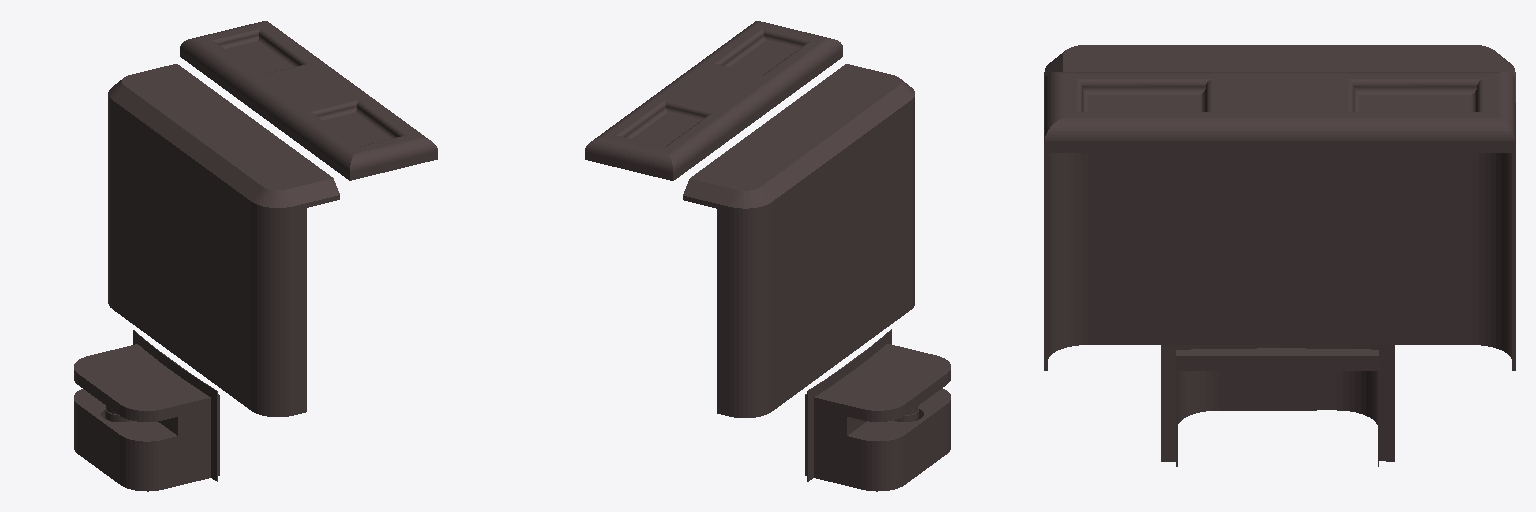
The robot description file, URDF, robot "forklift":
<?xml version="1.0"?>
<robot name="forklift">

    <!-- main chasis part-->
	<link name="base_link">
	 	<visual>
			<origin rpy="1.57075 0 -1.57075" xyz="1.375 0.383 0"/>
			<geometry>
				<mesh filename="package://forklift_description/meshes/main_chasis.STL" scale="0.001 0.001 0.001"/>
			</geometry>
			<material name="green">
       			<color rgba="0.3 1 0.3 1"/>
     		</material>
	 	</visual>

	 	<!-- main chasis collision, mass and inertia -->
    	<collision>
      	<origin rpy="1.57075 0 -1.57075" xyz="1.375 0.383 0"/>
      	<geometry>
         	<mesh filename="package://forklift_description/meshes/main_chasis.STL" scale="0.001 0.001 0.001"/>
      	</geometry>
    	</collision>
    	<inertial>
      		<mass value="50"/>
      		<inertia ixx="0.13" ixy="0.0" ixz="0.0" iyy="0.21" iyz="0.0" izz="0.13"/>
    	</inertial>
	</link>	

    <!-- column part -->
	<link name="column">
	 	<visual>
			<origin rpy="1.57075 0 1.57075 " xyz="-0.073 -0.098 -0.25"/>
			<geometry>
				<mesh filename="package://forklift_description/meshes/column.STL" scale="0.001 0.001 0.001"/>
			</geometry>
			<material name="grey">
       			<color rgba="0.1 0 1 0.8"/>
     		</material>
		</visual>

		<!-- column collision, mass and inertia -->
    	<collision>
      	<origin rpy="1.57075 0 1.57075 " xyz="-0.073 -0.098 -0.25"/>
      	<geometry>
         	<mesh filename="package://forklift_description/meshes/column.STL" scale="0.001 0.001 0.001"/>
      	</geometry>
    	</collision>
    	<inertial>
      		<mass value="10"/>
      		<inertia ixx="0.13" ixy="0.0" ixz="0.0" iyy="0.21" iyz="0.0" izz="0.13"/>
    	</inertial>
	</link>

	 <!-- main chasis + column joining-->
    <joint name="steering_joint" type="revolute">
	 	<axis xyz="0 0 1"/>
        <limit effort="1000.0" lower="-1.57075" upper="1.57075" velocity="0.5"/>
		<parent link="base_link"/>
		<child link="column"/>
		<origin xyz="0 0 0.5"/>
	</joint>

	<!-- wheel mounting part-->
	<link name="mounting_wheel">
	 	<visual>
			<origin rpy="1.57075 0 1.57075" xyz="-0.073 -0.107 -0.14"/>
			<geometry>
				<mesh filename="package://forklift_description/meshes/mount_wheel.STL" scale="0.001 0.001 0.001"/>
			</geometry>
			<material name="grey">
       			<color rgba="0.3 1 0.3 1"/>
     		</material>
		</visual>

		<!-- wheel collision, mass and inertia -->
    	<collision>
      	<origin rpy="1.57075 0 1.57075" xyz="-0.073 -0.107 -0.14"/>
      	<geometry>
         	<mesh filename="package://forklift_description/meshes/mount_wheel.STL" scale="0.001 0.001 0.001"/>
      	</geometry>
    	</collision>
    	<inertial>
      		<mass value="10"/>
      		<inertia ixx="0.13" ixy="0.0" ixz="0.0" iyy="0.21" iyz="0.0" izz="0.13"/>
    	</inertial>
	</link>

	<!-- cplumn + wheel mounting joining-->
	<joint name="column_to_mounting_wheel" type="fixed">
	  	<parent link="column"/>
		<child link="mounting_wheel"/>
		<origin xyz="0 0 -0.3"/>
	</joint>

	<!-- driving motor part-->
	<link name="motor">
		<visual>
			<origin rpy="1.57075 0 1.57075" xyz="-0.068 -0.045 -0.07"/>
			<geometry>
				<mesh filename="package://forklift_description/meshes/driving_motor.STL" scale="0.001 0.001 0.001"/>
			</geometry>
			<material name="grey">
       			<color rgba="0.3 0.3 0.3 0.5"/>
     		</material>
		</visual>

		<!-- driving motor collision, mass and inertia -->
    	<collision>
      	<origin rpy="1.57075 0 1.57075" xyz="-0.068 -0.045 -0.07"/>
      	<geometry>
         	<mesh filename="package://forklift_description/meshes/driving_motor.STL" scale="0.001 0.001 0.001"/>
      	</geometry>
    	</collision>
    	<inertial>
      		<mass value="10"/>
      		<inertia ixx="0.13" ixy="0.0" ixz="0.0" iyy="0.21" iyz="0.0" izz="0.13"/>
    	</inertial>

	</link>
      
    <!-- wheel mounting + motor joining-->
	<joint name="mounting_wheel_to_motor" type="fixed">
		<parent link="mounting_wheel"/>
		<child link="motor"/>
		<origin xyz="0 0 -0.08"/>
	</joint>

	<!-- driving wheel part-->
	<link name="driving_wheel">
		<visual>
			<origin rpy="0 0 1.57075" xyz="0.125 -0.044 -0.125"/>
			<geometry>
				<mesh filename="package://forklift_description/meshes/driving_wheel.STL" scale="0.001 0.001 0.001"/>
			</geometry>
			<material name="grey">
       			<color rgba="0.3 0.3 0.3 1"/>
     		</material>
		</visual>
		<!-- driving collision, mass and inertia -->
    	<collision>
      	<origin rpy="0 0 1.57075" xyz="0.125 -0.044 -0.125"/>
      	<geometry>
         	<mesh filename="package://forklift_description/meshes/driving_wheel.STL" scale="0.001 0.001 0.001"/>
      	</geometry>
    	</collision>
    	<inertial>
      		<mass value="10"/>
      		<inertia ixx="0.13" ixy="0.0" ixz="0.0" iyy="0.21" iyz="0.0" izz="0.13"/>
    	</inertial>

	</link>

    <!-- motor + driving wheel joining-->
	<joint name="driving_joint" type="continuous">
		<axis xyz="0 1 0"/>
        <limit effort="1000.0" lower="-3.14" upper="3.14" velocity="0.5"/>
		<parent link="motor"/>
		<child link="driving_wheel"/>
		<origin xyz="0 0 0"/>
	</joint>
      
    <!-- fork mount part-->
	<link name="fork_mount">
		<visual>
			<origin rpy="1.57075 0 0 " xyz="0 0.54 0.1"/>
			<geometry>
				<mesh filename="package://forklift_description/meshes/fork_holder.STL" scale="0.001 0.001 0.001"/>
			</geometry>
			<material name="grey">
       			<color rgba="0.1 0 1 1"/>
     		</material>
		</visual>

		<!-- fork mount collision, mass and inertia -->
    	<collision>
      	<origin rpy="1.57075 0 0 " xyz="0 0.54 0.1"/>
      	<geometry>
         	<mesh filename="package://forklift_description/meshes/fork_holder.STL" scale="0.001 0.001 0.001"/>
      	</geometry>
    	</collision>
    	<inertial>
      		<mass value="10"/>
      		<inertia ixx="0.13" ixy="0.0" ixz="0.0" iyy="0.21" iyz="0.0" izz="0.13"/>
    	</inertial>
	</link>

	<!-- main chasis + fork mount joining=linear z-->
	<joint name="fork_joint" type="prismatic">
		<axis xyz="0 0 1"/>
        <limit effort="1000.0" lower="0" upper="1.4" velocity="0.5"/>
		<parent link="base_link"/>
		<child link="fork_mount"/>
		<origin xyz="0.45 0 0"/>
	</joint>

	<!-- left fork part-->
	<link name="fork_left">
		<visual>
			<origin rpy="1.57075 0 0" xyz="-0.02 0.08 -0.41"/>
			<geometry>
				<mesh filename="package://forklift_description/meshes/fork.STL" scale="0.001 0.001 0.001"/>
			</geometry>
			<material name="grey">
       			<color rgba="0.3 0.3 0.3 1"/>
     		</material>
		</visual>

		<!-- left fork collision, mass and inertia -->
    	<collision>
      	<origin rpy="1.57075 0 0" xyz="-0.02 0.08 -0.41"/>
      	<geometry>
         	<mesh filename="package://forklift_description/meshes/fork.STL" scale="0.001 0.001 0.001"/>
      	</geometry>
    	</collision>
    	<inertial>
      		<mass value="10"/>
      		<inertia ixx="0.13" ixy="0.0" ixz="0.0" iyy="0.21" iyz="0.0" izz="0.13"/>
    	</inertial>

	</link>

	<!-- fork mount + left fork joining-->
	<joint name="fork_left_left" type="fixed">
		<parent link="fork_mount"/>
		<child link="fork_left"/>
		<origin xyz="0.13 0.25 0.47"/>
	</joint>
      
    <!-- right fork part-->
	<link name="fork_right">
		<visual>
			<origin rpy="1.57075 0 0" xyz="-0.02 0.08 -0.41"/>
			<geometry>
				<mesh filename="package://forklift_description/meshes/fork.STL" scale="0.001 0.001 0.001"/>
			</geometry>
			<material name="grey">
       			<color rgba="0.13 0.3 0.3 1"/>
     		</material>
		</visual>

		<!-- left fork collision, mass and inertia -->
    	<collision>
      	<origin rpy="1.57075 0 0" xyz="-0.02 0.08 -0.41"/>
      	<geometry>
         	<mesh filename="package://forklift_description/meshes/fork.STL" scale="0.001 0.001 0.001"/>
      	</geometry>
    	</collision>
    	<inertial>
      		<mass value="10"/>
      		<inertia ixx="0.13" ixy="0.0" ixz="0.0" iyy="0.21" iyz="0.0" izz="0.13"/>
    	</inertial>

	</link>

	<!-- fork mount + right fork joining-->
	<joint name="fork_right_right" type="fixed">
		<parent link="fork_mount"/>
		<child link="fork_right"/>
		<origin xyz="0.13 -0.25 0.47"/>
	</joint>

	<!-- FR wheel part-->
	<link name="FR_wheel">
		<visual>
			<origin rpy="0 1.57075 1.57075" xyz="0.04 0 0.04"/>
			<geometry>
				<mesh filename="package://forklift_description/meshes/front_wheel.STL" scale="0.001 0.001 0.001"/>
			</geometry>
			<material name="grey">
       			<color rgba="0.35 0.3 0.3 1"/>
     		</material>
		</visual>

		<!-- front collision, mass and inertia -->
    	<collision>
      	<origin rpy="0 1.57075 1.57075" xyz="0.04 0 0.04"/>
      	<geometry>
         	<mesh filename="package://forklift_description/meshes/front_wheel.STL" scale="0.001 0.001 0.001"/>
      	</geometry>
    	</collision>
    	<inertial>
      		<mass value="0.5"/>
      		<inertia ixx="0.13" ixy="0.0" ixz="0.0" iyy="0.21" iyz="0.0" izz="0.13"/>
    	</inertial>
	</link>

	<!-- main chasis + FR wheel joining-->
	<joint name="FRwheel" type="continuous">
		<axis xyz="0 1 0"/>
        <limit effort="1000.0" lower="-3.14" upper="3.14" velocity="0.5"/>
		<parent link="base_link"/>
		<child link="FR_wheel"/>
		<origin xyz="1.32 -0.29 0.02"/>
	</joint>

	<!-- RR wheel part-->
	<link name="RR_wheel">
		<visual>
			<origin rpy="0 1.57075 1.57075" xyz="0.04 0 0.04"/>
			<geometry>
				<mesh filename="package://forklift_description/meshes/front_wheel.STL" scale="0.001 0.001 0.001"/>
			</geometry>
			<material name="grey">
       			<color rgba="0.35 0.3 0.3 1"/>
     		</material>
		</visual>

		<!-- front collision, mass and inertia -->
    	<collision>
      	<origin rpy="0 1.57075 1.57075" xyz="0.04 0 0.04"/>
      	<geometry>
         	<mesh filename="package://forklift_description/meshes/front_wheel.STL" scale="0.001 0.001 0.001"/>
      	</geometry>
    	</collision>
    	<inertial>
      		<mass value="0.5"/>
      		<inertia ixx="0.13" ixy="0.0" ixz="0.0" iyy="0.21" iyz="0.0" izz="0.13"/>
    	</inertial>
	</link>

	<!-- main chasis + RR wheel joining-->
	<joint name="RRwheel" type="continuous">
		<axis xyz="0 1 0"/>
        <limit effort="1000.0" lower="-3.14" upper="3.14" velocity="0.5"/>
		<parent link="base_link"/>
		<child link="RR_wheel"/>
		<origin xyz="1.23 -0.29 0.02"/>
	</joint>

	<!-- FL wheel part-->
	<link name="FL_wheel">
		<visual>
			<origin rpy="0 1.57075 1.57075" xyz="0.04 0 0.04"/>
			<geometry>
				<mesh filename="package://forklift_description/meshes/front_wheel.STL" scale="0.001 0.001 0.001"/>
			</geometry>
			<material name="grey">
       			<color rgba="0.35 0.3 0.3 1"/>
     		</material>
		</visual>

		<!-- front collision, mass and inertia -->
    	<collision>
      	<origin rpy="0 1.57075 1.57075" xyz="0.04 0 0.04"/>
      	<geometry>
         	<mesh filename="package://forklift_description/meshes/front_wheel.STL" scale="0.001 0.001 0.001"/>
      	</geometry>
    	</collision>
    	<inertial>
      		<mass value="0.5"/>
      		<inertia ixx="0.13" ixy="0.0" ixz="0.0" iyy="0.21" iyz="0.0" izz="0.13"/>
    	</inertial>
	</link>

	<!-- main chasis + FL wheel joining-->
	<joint name="FLwheel" type="continuous">
		<axis xyz="0 1 0"/>
        <limit effort="1000.0" lower="-3.14" upper="3.14" velocity="0.5"/>
		<parent link="base_link"/>
		<child link="FL_wheel"/>
		<origin xyz="1.32 0.235 0.02"/>
	</joint>

	<!-- RL wheel part-->
	<link name="RL_wheel">
		<visual>
			<origin rpy="0 1.57075 1.57075" xyz="0.04 0 0.04"/>
			<geometry>
				<mesh filename="package://forklift_description/meshes/front_wheel.STL" scale="0.001 0.001 0.001"/>
			</geometry>
			<material name="grey">
       			<color rgba="0.35 0.3 0.3 1"/>
     		</material>
		</visual>

		<!-- front collision, mass and inertia -->
    	<collision>
      	<origin rpy="0 1.57075 1.57075" xyz="0.04 0 0.04"/>
      	<geometry>
         	<mesh filename="package://forklift_description/meshes/front_wheel.STL" scale="0.001 0.001 0.001"/>
      	</geometry>
    	</collision>
    	<inertial>
      		<mass value="0.5"/>
      		<inertia ixx="0.13" ixy="0.0" ixz="0.0" iyy="0.21" iyz="0.0" izz="0.13"/>
    	</inertial>
	</link>

	<!-- main chasis + RL wheel joining-->
	<joint name="RLwheel" type="continuous">
		<axis xyz="0 1 0"/>
        <limit effort="1000.0" lower="-3.14" upper="3.14" velocity="0.5"/>
		<parent link="base_link"/>
		<child link="RL_wheel"/>
		<origin xyz="1.23 0.235 0.02"/>
	</joint>

  	<!-- Accesories part-->
  	<!-- Casing-->
	<link name="casing">
		<visual>
			<origin rpy="1.57075 0 -1.57075" xyz="1.8 0.528 -0.68"/>
			<geometry>
				<mesh filename="package://forklift_description/meshes/casing.STL" scale="0.001 0.001 0.001"/>
			</geometry>
			<material name="grey">
       			<color rgba="0.35 0.3 0.3 1"/>
     		</material>
		</visual>

		<!-- casing collision, mass and inertia -->
    	<collision>
      	<origin rpy="1.57075 0 -1.57075" xyz="1.8 0.528 -0.68"/>
      	<geometry>
         	<mesh filename="package://forklift_description/meshes/casing.STL" scale="0.001 0.001 0.001"/>
      	</geometry>
    	</collision>
    	<inertial>
      		<mass value="0.5"/>
      		<inertia ixx="0.13" ixy="0.0" ixz="0.0" iyy="0.21" iyz="0.0" izz="0.13"/>
    	</inertial>
	</link>

	<!-- main chasis + casing joining-->
	<joint name="main_chasis_to_casing" type="fixed">
		<parent link="base_link"/>
		<child link="casing"/>
		<origin xyz="-0.1 0 0.6"/>
	</joint>

  	<!-- Casing battery-->
	<link name="casing_battery">
		<visual>
			<origin rpy="1.57075 0 -1.57075" xyz="1.58 0.528 -0.68"/>
			<geometry>
				<mesh filename="package://forklift_description/meshes/casing_battery.STL" scale="0.001 0.001 0.001"/>
			</geometry>
			<material name="grey">
       			<color rgba="0.35 0.3 0.3 1"/>
     		</material>
		</visual>

		<!-- casing collision, mass and inertia -->
    	<collision>
      	<origin rpy="1.57075 0 -1.57075" xyz="1.58 0.528 -0.68"/>
      	<geometry>
         	<mesh filename="package://forklift_description/meshes/casing_battery.STL" scale="0.001 0.001 0.001"/>
      	</geometry>
    	</collision>
    	<inertial>
      		<mass value="0.5"/>
      		<inertia ixx="0.13" ixy="0.0" ixz="0.0" iyy="0.21" iyz="0.0" izz="0.13"/>
    	</inertial>
	</link>

	<!-- main chasis + casing joining-->
	<joint name="main_chasis_to_casing_battery" type="fixed">
		<parent link="base_link"/>
		<child link="casing_battery"/>
		<origin xyz="0.1 0 0.6"/>
	</joint>

  	<!-- Casing bottom lidar-->
	<link name="lower_lidar_mount">
		<visual>
			<origin rpy="1.57075 0 -1.57075" xyz="1.99 0.53 -0.08"/>
			<geometry>
				<mesh filename="package://forklift_description/meshes/lower_lidar_mount.STL" scale="0.001 0.001 0.001"/>
			</geometry>
			<material name="grey">
       			<color rgba="0.35 0.3 0.3 1"/>
     		</material>
		</visual>

		<!-- lower lidar mount collision, mass and inertia -->
    	<collision>
      	<origin rpy="1.57075 0 -1.57075" xyz="1.99 0.53 -0.08"/>
      	<geometry>
         	<mesh filename="package://forklift_description/meshes/lower_lidar_mount.STL" scale="0.001 0.001 0.001"/>
      	</geometry>
    	</collision>
    	<inertial>
      		<mass value="1"/>
      		<inertia ixx="0.13" ixy="0.0" ixz="0.0" iyy="0.21" iyz="0.0" izz="0.13"/>
    	</inertial>
	</link>

	<!-- main chasis + lower lidar mount joining-->
	<joint name="main_chasis_to_lower_lidar_mount" type="fixed">
		<parent link="base_link"/>
		<child link="lower_lidar_mount"/>
		<origin xyz="-0.31 0 0"/>
	</joint>


    <!--sensors-->
  	<!--  bottom lidar-->
	<link name="bottom_lidar">
		<visual>
			<origin rpy="1.57075 0 -1.57075" xyz="1.29 0.54 -2.19"/>
			<geometry>
				<mesh filename="package://forklift_description/meshes/lidar.STL" scale="0.001 0.001 0.001"/>
			</geometry>
			<material name="grey">
       			<color rgba="0.35 0.3 0.3 1"/>
     		</material>
		</visual>

		<!-- lower lidar mount collision, mass and inertia -->
    	<collision>
      	<origin rpy="1.57075 0 -1.57075" xyz="1.29 0.54 -2.19"/>
      	<geometry>
         	<mesh filename="package://forklift_description/meshes/lidar.STL" scale="0.001 0.001 0.001"/>
      	</geometry>
    	</collision>
    	<inertial>
      		<mass value="1"/>
      		<inertia ixx="0.13" ixy="0.0" ixz="0.0" iyy="0.21" iyz="0.0" izz="0.13"/>
    	</inertial>
	</link>

	<!-- main chasis + lower lidar mount joining-->
	<joint name="lower_lidar_mount_to_bottom_lidar" type="fixed">
		<parent link="lower_lidar_mount"/>
		<child link="bottom_lidar"/>
		<origin xyz="0 0 0.15"/>
	</joint>

	<!-- calling parts in gazebo-->
	<!-- main chasis calling in gazebo-->
  	<gazebo reference="base_link">
    	<material>Gazebo/Grey</material>
    	<pose>0 0 3 0 0 0</pose>
  	</gazebo>
	<!-- column part calling in gazebo-->
  	<gazebo reference="column">
    	<material>Gazebo/Grey</material>
  	</gazebo>
	<!-- mounting wheel part calling in gazebo-->
  	<gazebo reference="mounting_wheel">
     	<material>Gazebo/Grey</material>
  	</gazebo>
	<!-- driving motor part calling in gazebo-->
  	<gazebo reference="motor">
     	<material>Gazebo/Grey</material>
  	</gazebo>
	<!-- driving wheel part calling in gazebo-->
  	<gazebo reference="driving_wheel">
     	<material>Gazebo/Yellow</material>
  	</gazebo>
	<!-- fork mount part calling in gazebo-->
  	<gazebo reference="fork_mount">
     	<material>Gazebo/Gray</material>
  	</gazebo>
	<!-- left fork part calling in gazebo-->
  	<gazebo reference="fork_left">
     	<material>Gazebo/Gray</material>
  	</gazebo>
	<!-- right fork part calling in gazebo-->
  	<gazebo reference="fork_right">
     	<material>Gazebo/Gray</material>
  	</gazebo>
	<!-- FR wheel part calling in gazebo-->
  	<gazebo reference="FR_wheel">
     	<material>Gazebo/Yellow</material>
  	</gazebo>
	<!-- RR wheel part calling in gazebo-->
  	<gazebo reference="RR_wheel">
     	<material>Gazebo/Yellow</material>
  	</gazebo>
	<!-- FL wheel part calling in gazebo-->
  	<gazebo reference="FL_wheel">
     	<material>Gazebo/Yellow</material>
  	</gazebo>
	<!-- FR wheel part calling in gazebo-->
  	<gazebo reference="RL_wheel">
     	<material>Gazebo/Yellow</material>
  	</gazebo>
	<!-- left fork part calling in gazebo-->
  	<gazebo reference="casing">
     	<material>Gazebo/Green</material>
  	</gazebo>
	<!-- left fork part calling in gazebo-->
  	<gazebo reference="casing_battery">
     	<material>Gazebo/Green</material>
  	</gazebo>
	<!-- lower lidar mount part calling in gazebo-->
  	<gazebo reference="lower_lidar_mount">
     	<material>Gazebo/Grey</material>
  	</gazebo>
  	
  	<!--calling sensor in gazebo-->
	<!-- lower lidar sensor calling in gazebo-->
  	<gazebo reference="bottom_lidar">
     	<material>Gazebo/Black</material>
  	</gazebo>

  <!-- This tag function connects the non fixed part joint to an actuator (motor), which informs both simulation and visualization of the robot -->
  <transmission name="steering_trans">
    <type>transmission_interface/SimpleTransmission</type>
    <actuator name="steering_motor">
      <mechanicalReduction>1</mechanicalReduction>
    </actuator>
    <joint name="steering_joint"> <!-- refer to the name joint-->
      <hardwareInterface>PositionJointInterface</hardwareInterface>
    </joint>
  </transmission>

  <transmission name="driving_trans">
    <type>transmission_interface/SimpleTransmission</type>
    <actuator name="driving_motor">
      <mechanicalReduction>1</mechanicalReduction>
    </actuator>
    <joint name="driving_joint"> <!-- refer to the name joint-->
      <hardwareInterface>PositionJointInterface</hardwareInterface>
    </joint>
  </transmission>
  
  <transmission name="fork_trans">
    <type>transmission_interface/SimpleTransmission</type>
    <actuator name="fork_motor">
      <mechanicalReduction>1</mechanicalReduction>
    </actuator>
    <joint name="fork_joint"> <!-- refer to the name joint-->
      <hardwareInterface>PositionJointInterface</hardwareInterface>
    </joint>
  </transmission>

   <gazebo>
    <plugin name="gazebo_ros_control" filename="libgazebo_ros_control.so">
      <robotNamespace>/</robotNamespace>
    </plugin>
  </gazebo>

</robot>

--- Render facts (derived) ---
3 views of the same robot in one strip: view 1: azimuth 30°, elevation 25°; view 2: azimuth 150°, elevation 25°; view 3: azimuth 270°, elevation 25° (orthographic).
Model forklift with 16 links and 15 joints (1 revolute, 5 continuous, 1 prismatic, 8 fixed), rooted at base_link, posed all joints at 0.
Links seen in each view (by area): view 1: casing, casing_battery, lower_lidar_mount; view 2: casing, casing_battery, lower_lidar_mount; view 3: casing, casing_battery, lower_lidar_mount.
Link boxes in pixels (x1,y1,x2,y2): casing: (108,64,339,416); casing_battery: (180,21,437,180); lower_lidar_mount: (74,330,219,491); casing: (683,64,914,417); casing_battery: (585,21,842,180); lower_lidar_mount: (805,329,950,491); casing: (1044,45,1515,370); casing_battery: (1044,72,1514,152); lower_lidar_mount: (1161,345,1394,466).
Bounding box of the posed robot: 0.6634 × 0.765 × 0.819 m (x, y, z).
4 mesh visuals loaded from 12 distinct referenced files (4 binary STL); not drawn: 12 (reference not matched to a file when rendering).